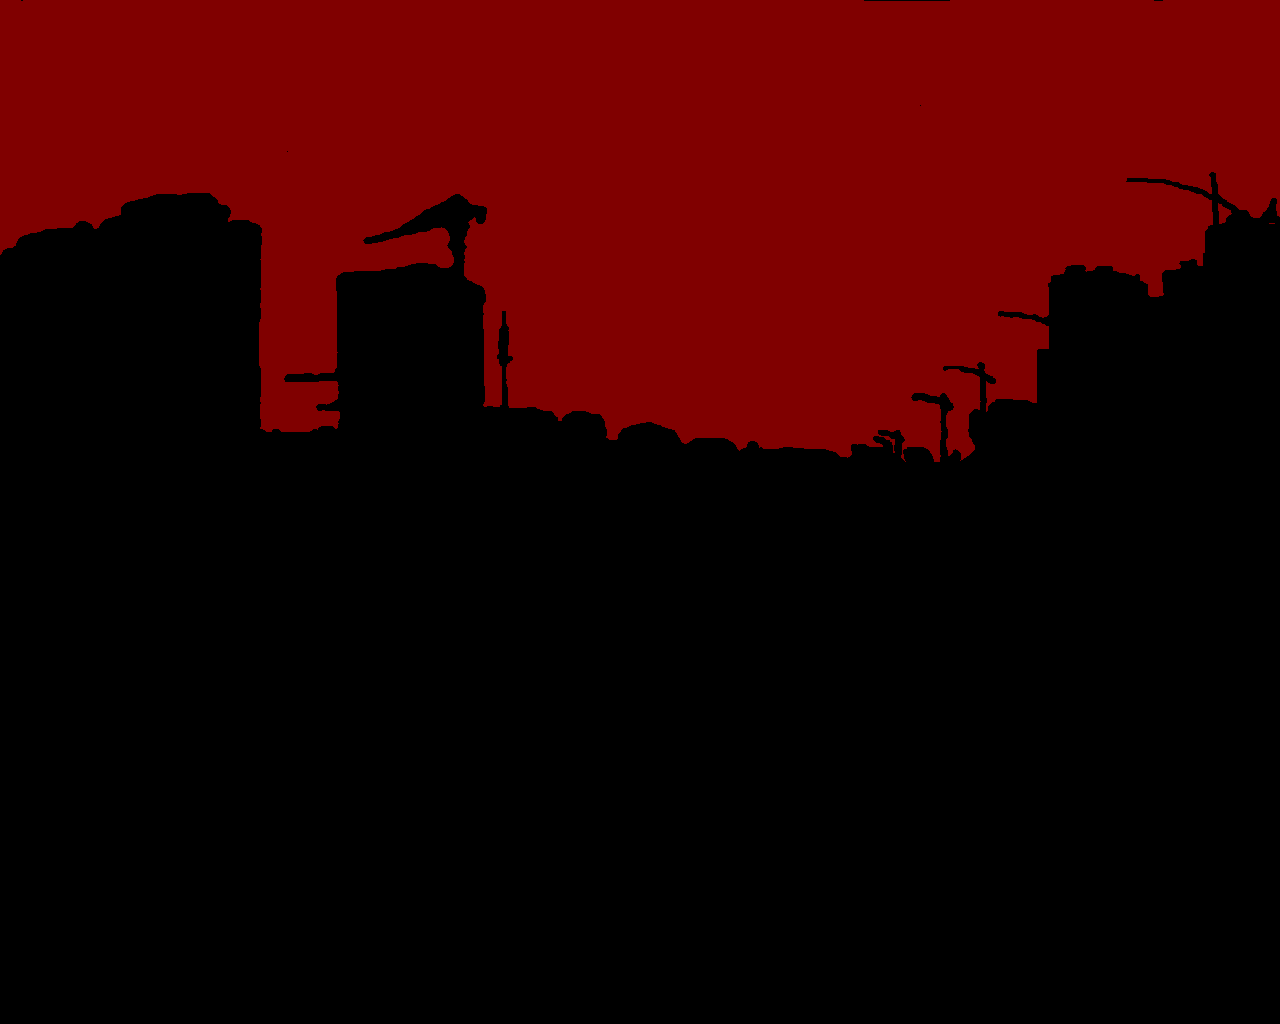Sky: (1, 1, 1279, 462)
